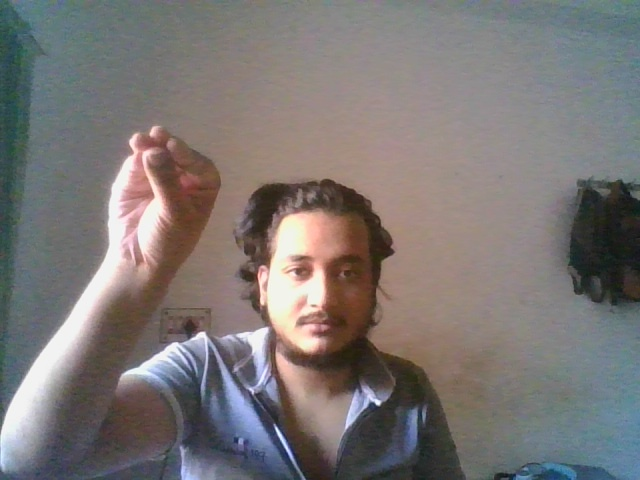Mouth: (105, 126, 223, 271)
